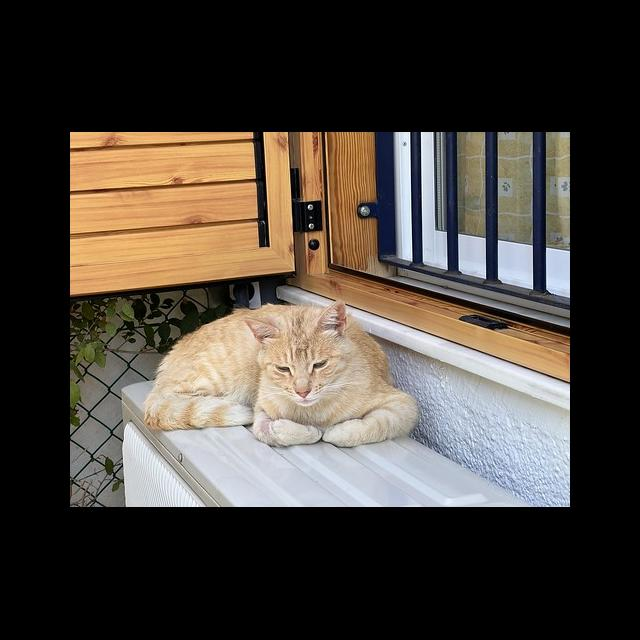animals: (144, 299, 417, 448)
